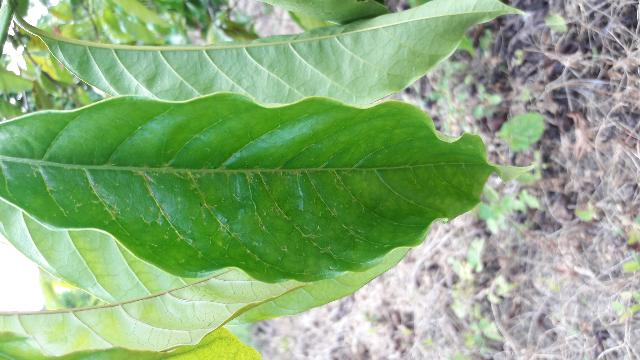healthy: (1, 92, 538, 282)
